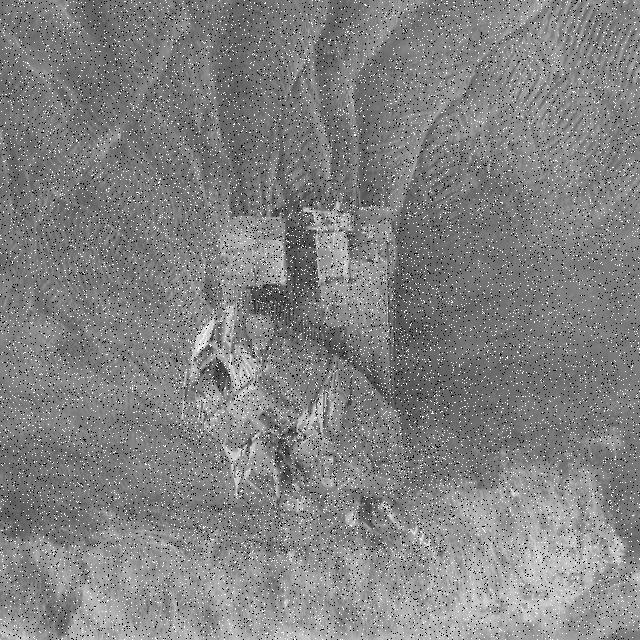MIL_MBT: (175, 202, 448, 569)
